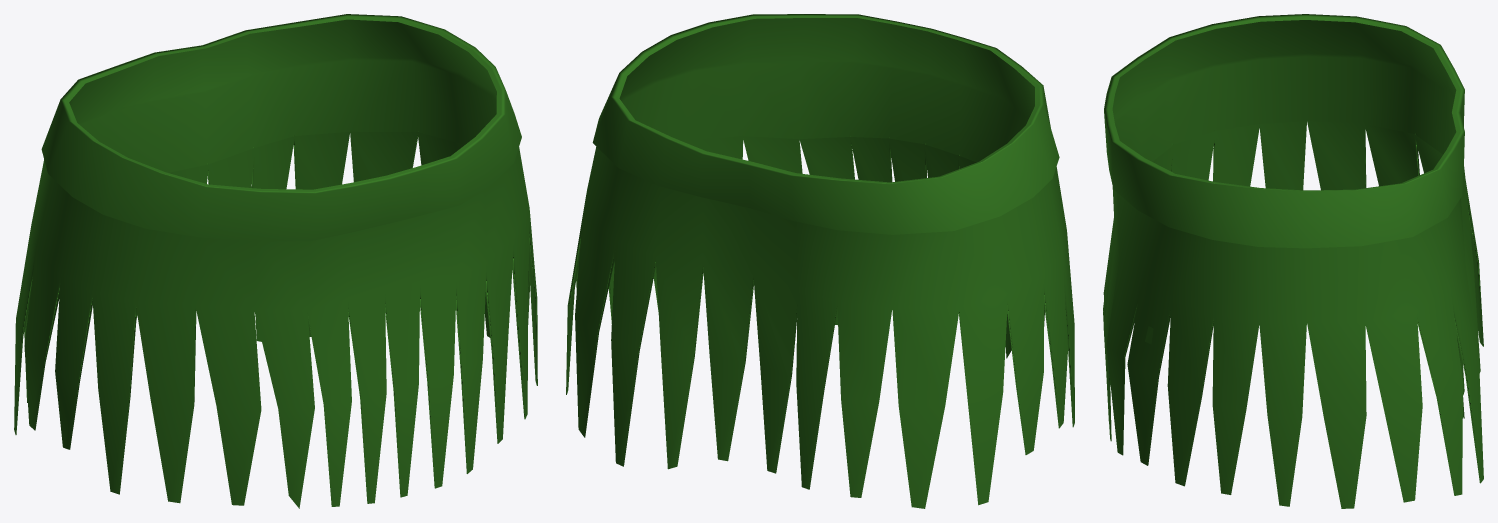
The model's file is CUGrassSkirt.fbx.
The picture shows the model from 3 angles, left to right: view 1: azimuth 30°, elevation 25°; view 2: azimuth 150°, elevation 25°; view 3: azimuth 270°, elevation 25°; orthographic projection. The views are drawn at different scales.
Parts seen in each view (by area): view 1: GrassSkirt; view 2: GrassSkirt; view 3: GrassSkirt.
Boxes of the visible parts, left/top/right/bottom form: GrassSkirt: left=14, top=14, right=537, bottom=508; GrassSkirt: left=566, top=14, right=1074, bottom=508; GrassSkirt: left=1103, top=14, right=1483, bottom=508.
Bounding box in the file's own units: 184 × 129 × 138.
